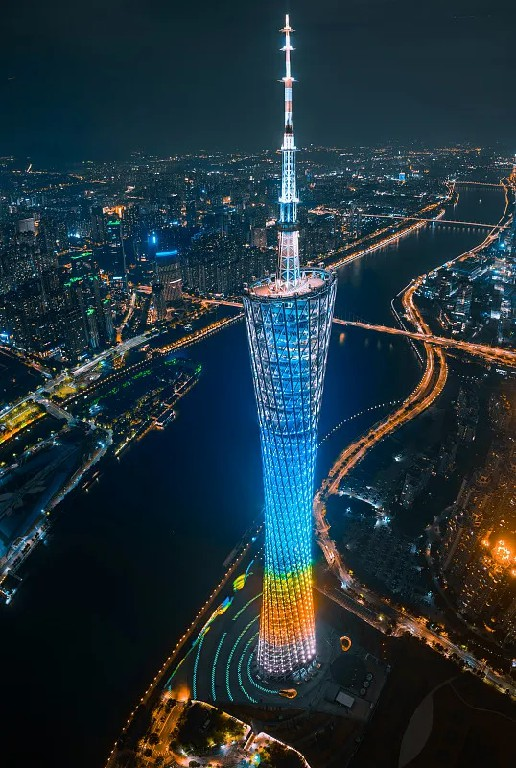Canton: (240, 9, 329, 679)
